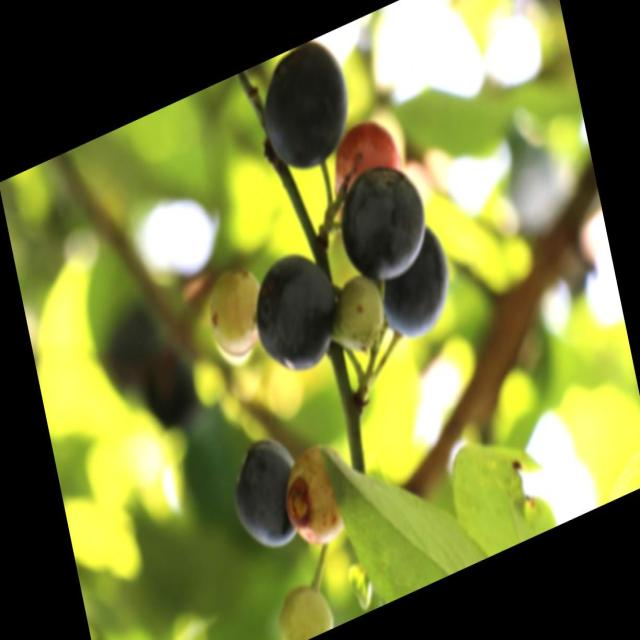blueberry: (254, 31, 359, 182), (243, 234, 347, 386), (335, 157, 435, 294), (368, 216, 459, 353), (225, 426, 308, 560)
blueberry-halfripe: (322, 108, 408, 206)
blueberry-unripe: (280, 440, 354, 559), (200, 262, 272, 372), (327, 266, 395, 366), (267, 576, 339, 639)
